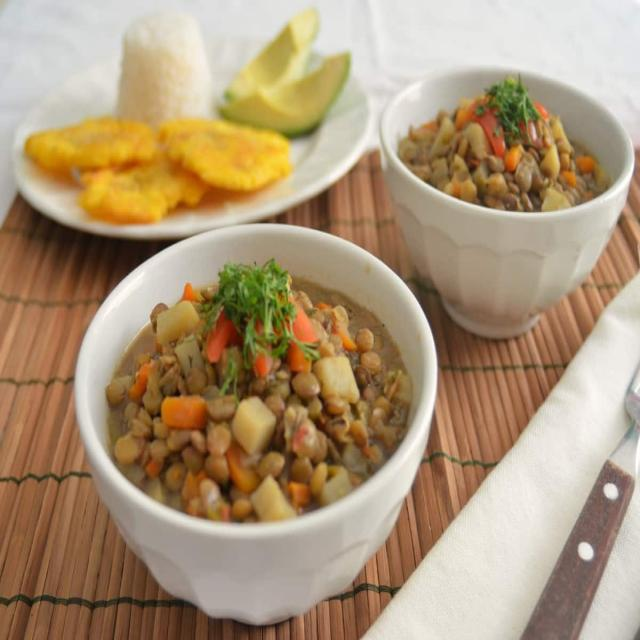aguacate: (216, 9, 352, 137)
arroz: (116, 13, 214, 126)
lentejas: (101, 262, 418, 543), (400, 67, 610, 238)
platano: (20, 106, 298, 226)
